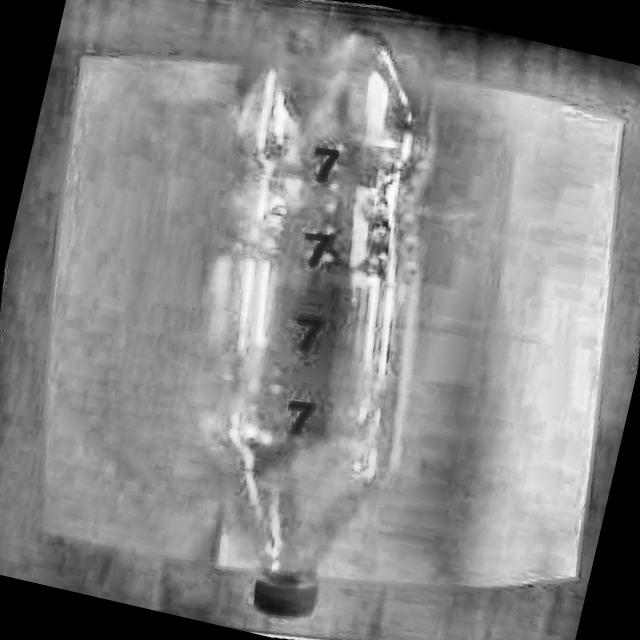plastic bottle: (227, 33, 427, 617)
